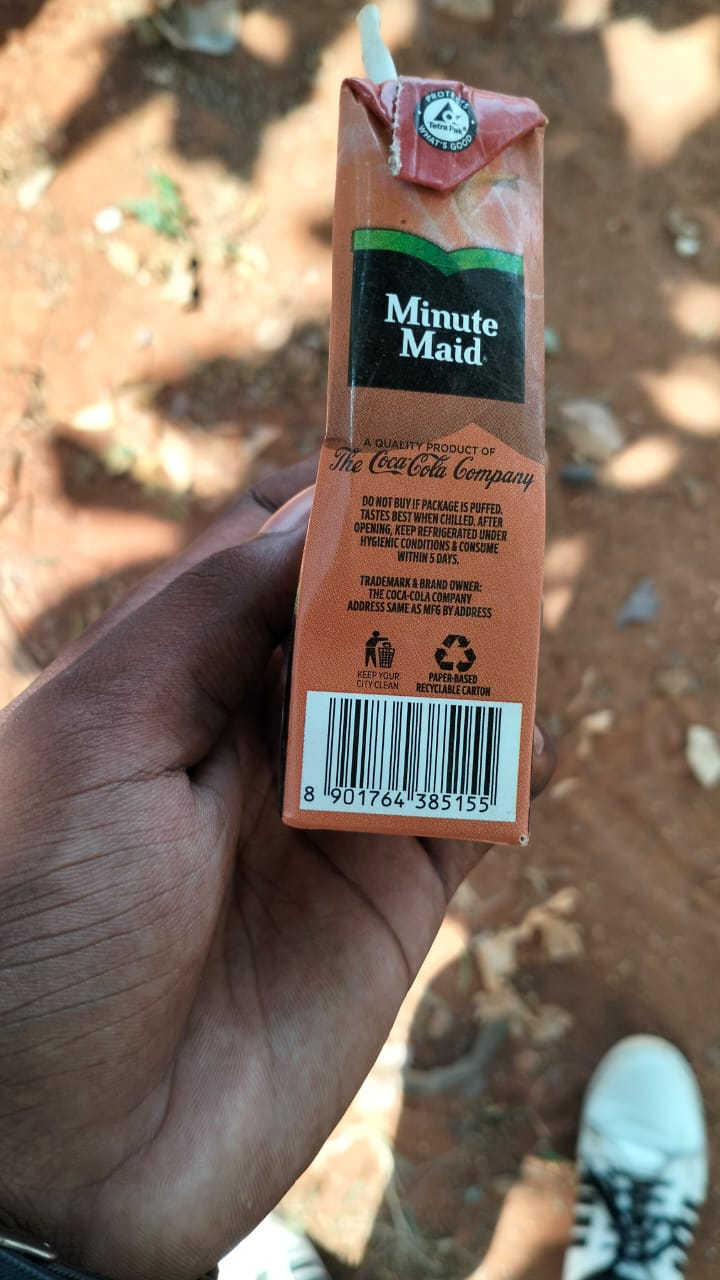pbag: (301, 51, 609, 833)
